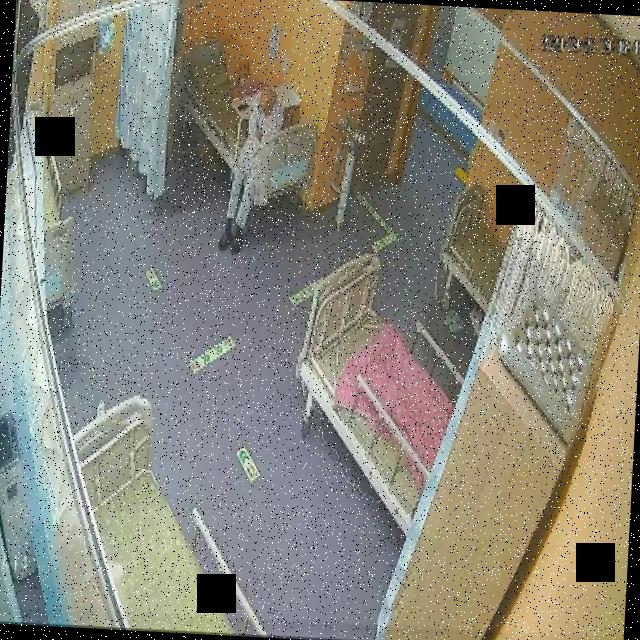bed: (62, 397, 278, 638), (290, 252, 462, 535), (170, 35, 324, 210), (439, 182, 509, 316)
patient: (219, 76, 286, 256)
sit: (219, 74, 285, 256)
